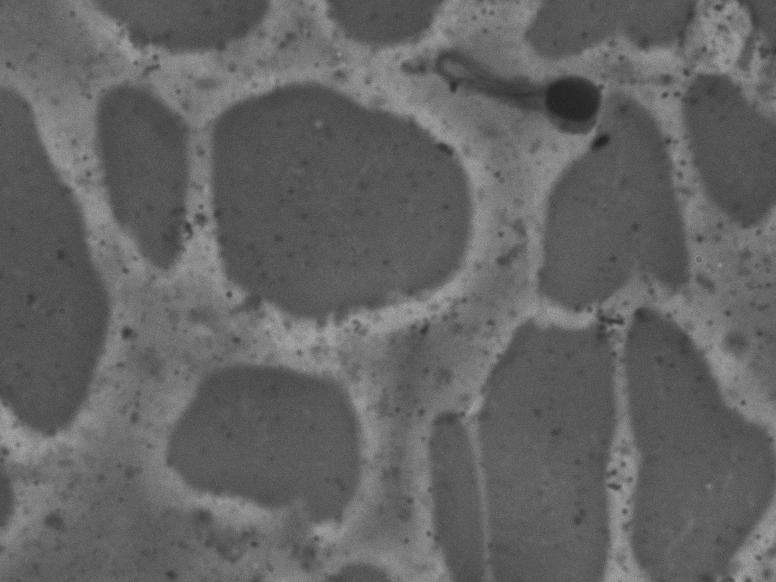Abnormal: (442, 45, 613, 141)
